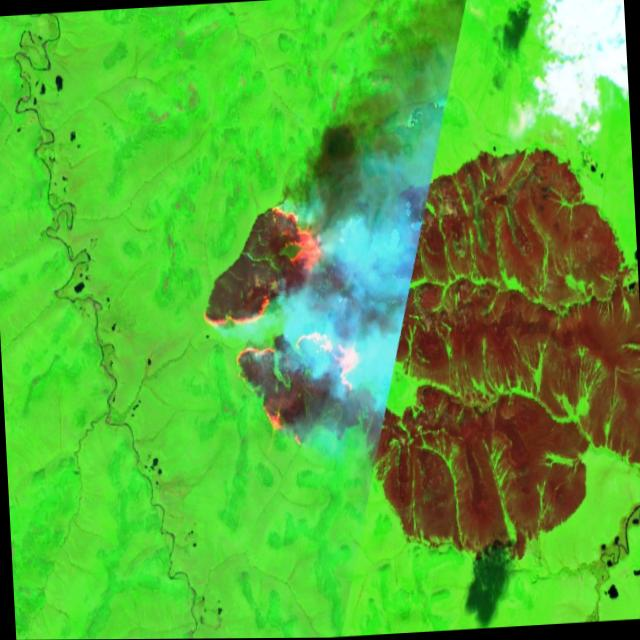fire: (196, 192, 368, 441)
